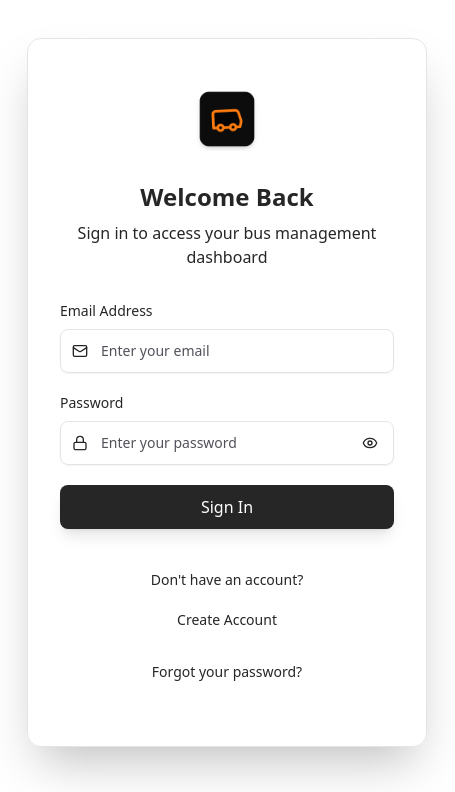
Test: AuthForm › shows success message on login
Type "test@example.com" into the field labelled "Email Address" at point(227, 350), box x1=60 y1=328 x2=394 y2=372
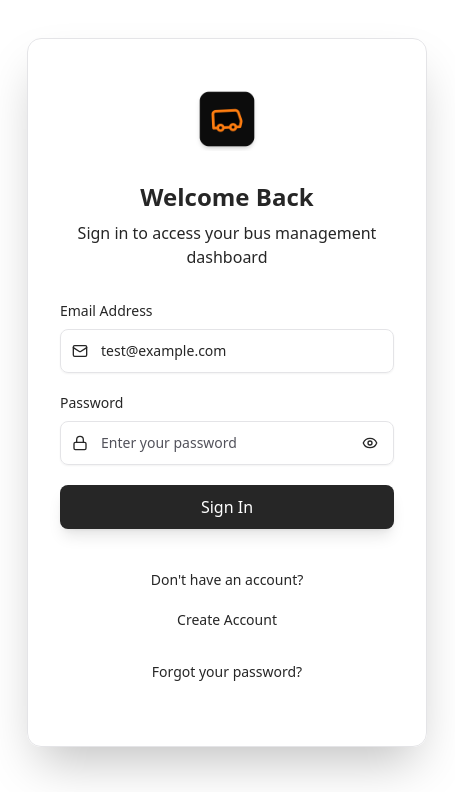
Type "password123" into the password field labelled "Password" at point(227, 442), box x1=60 y1=420 x2=394 y2=464
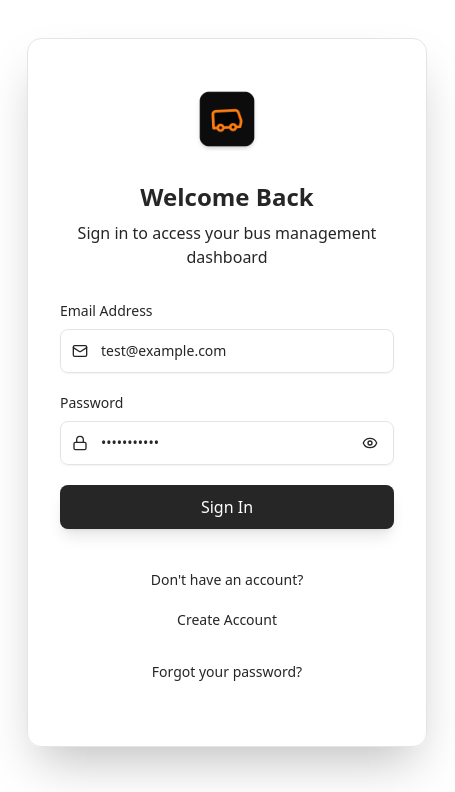
Click the button "Sign In" at point(227, 506), box x1=60 y1=484 x2=394 y2=528
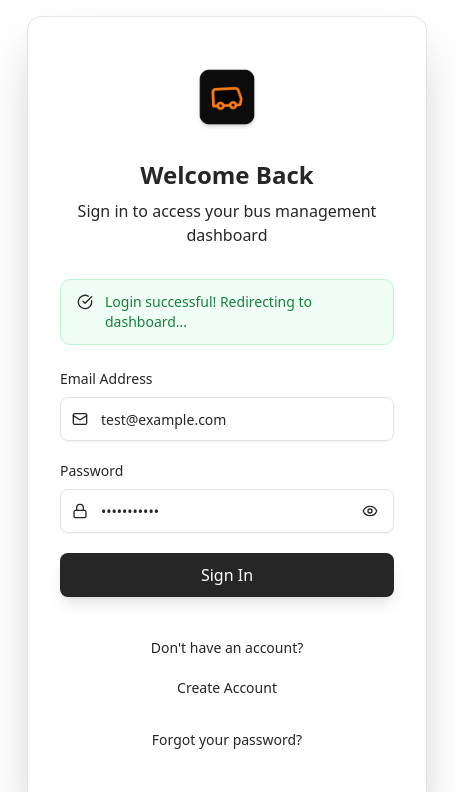
Check: the text "Login successful! Redirecting to dashboard..." is shown, box x1=105 y1=292 x2=312 y2=331
